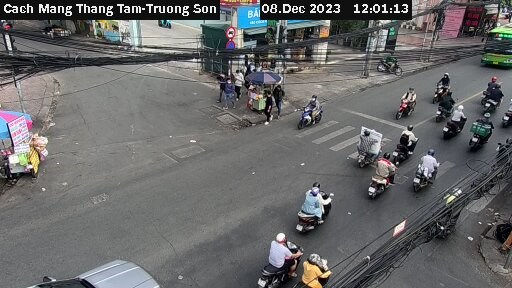bus: (478, 29, 512, 64)
car: (17, 246, 172, 288)
motorbike: (292, 185, 347, 237), (283, 247, 337, 288), (363, 148, 403, 201), (246, 232, 295, 274), (346, 114, 387, 159), (411, 150, 448, 193), (394, 80, 428, 117), (296, 92, 329, 130), (465, 114, 495, 152), (429, 65, 462, 98), (440, 101, 469, 136), (425, 90, 455, 122), (394, 122, 424, 154), (478, 86, 507, 113), (479, 70, 499, 101)
